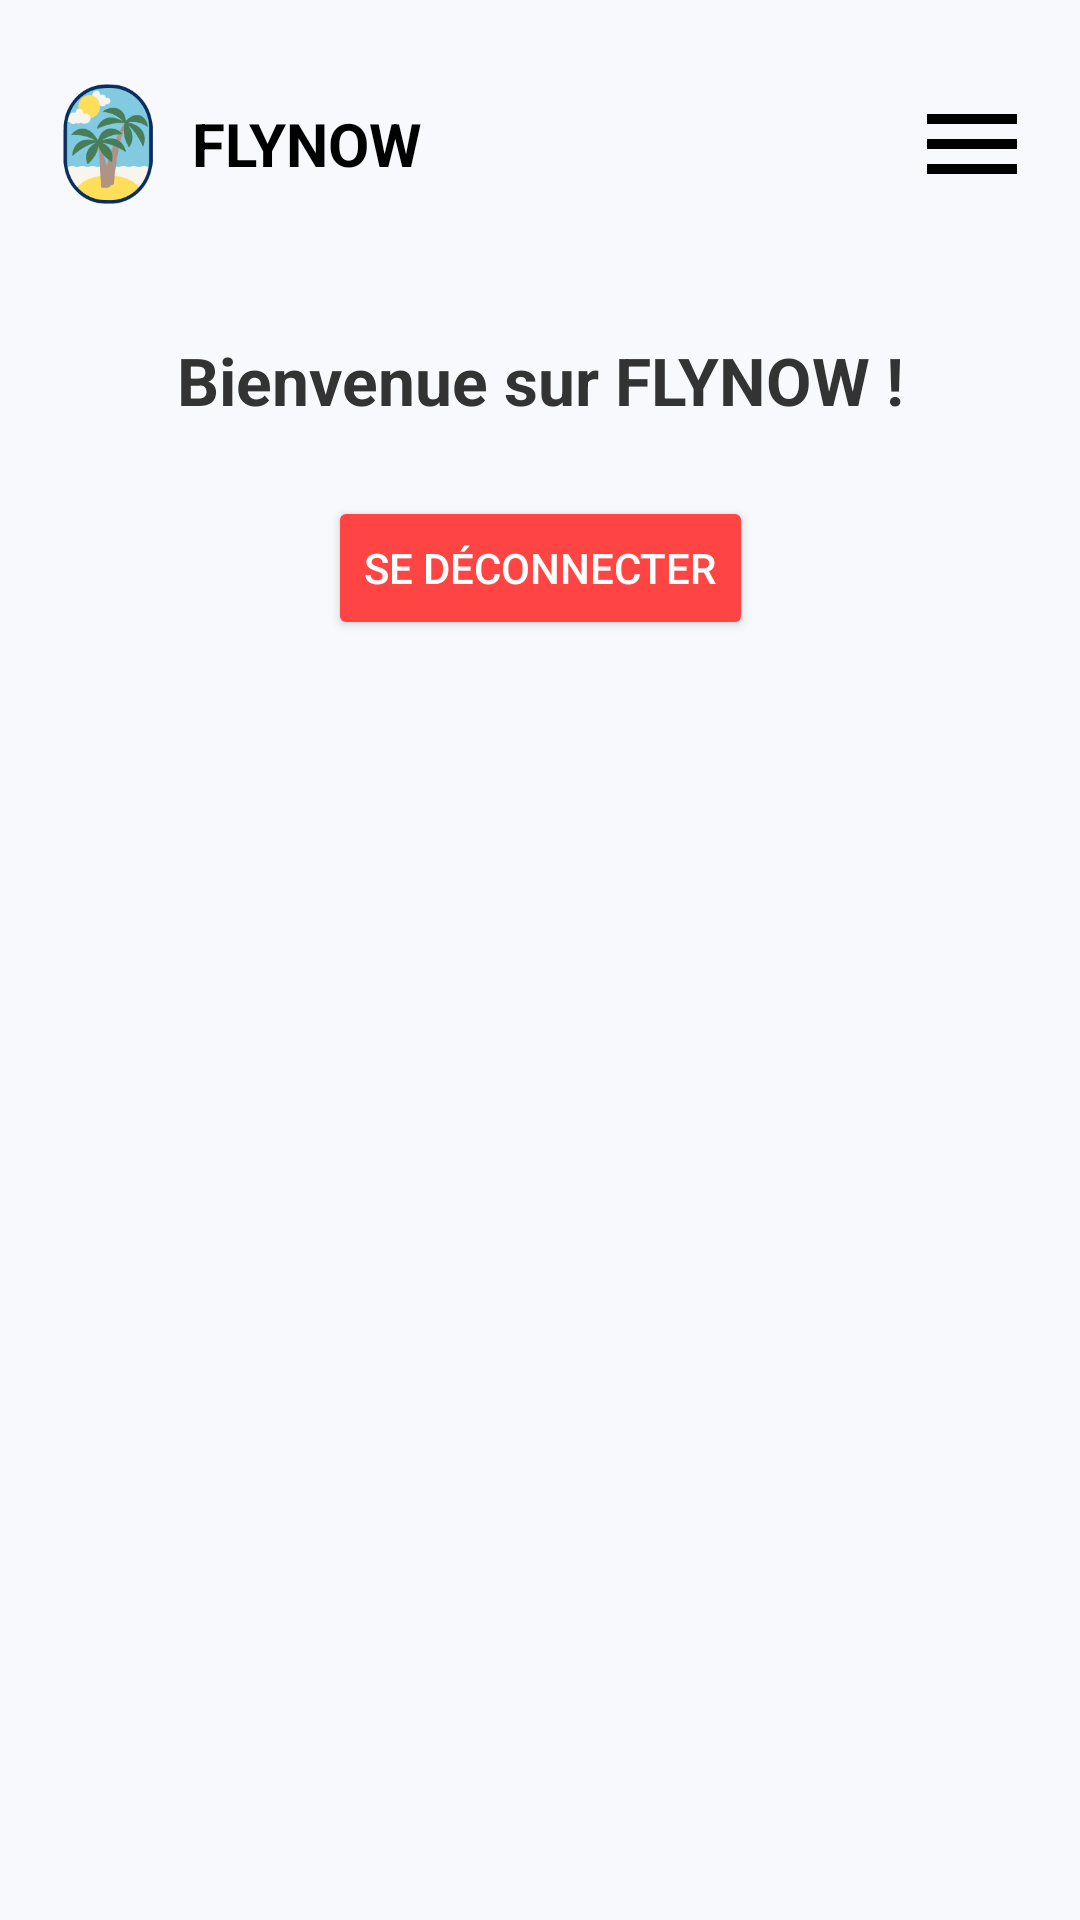

Named icons in this screenshot (1080×1920) and their bounding boxes, {"x1": x1, "y1": y1, "x2": x2, "y2": y2}:
Menu: {"x1": 927, "y1": 114, "x2": 1017, "y2": 174}
